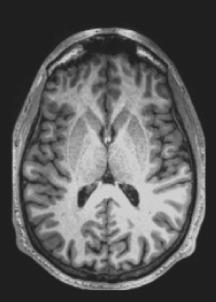Normal_Brain: (1, 5, 216, 302)
